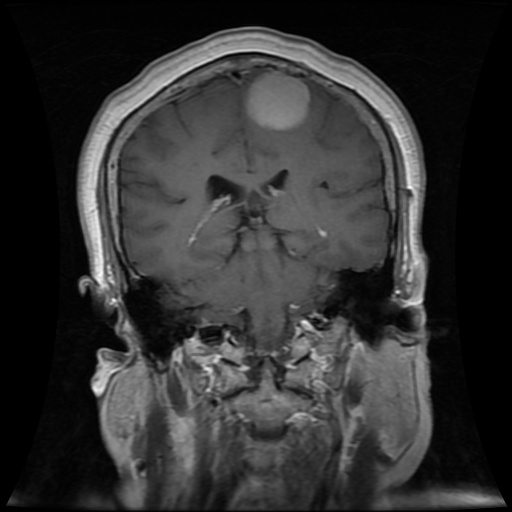meningioma: (246, 70, 307, 128)
